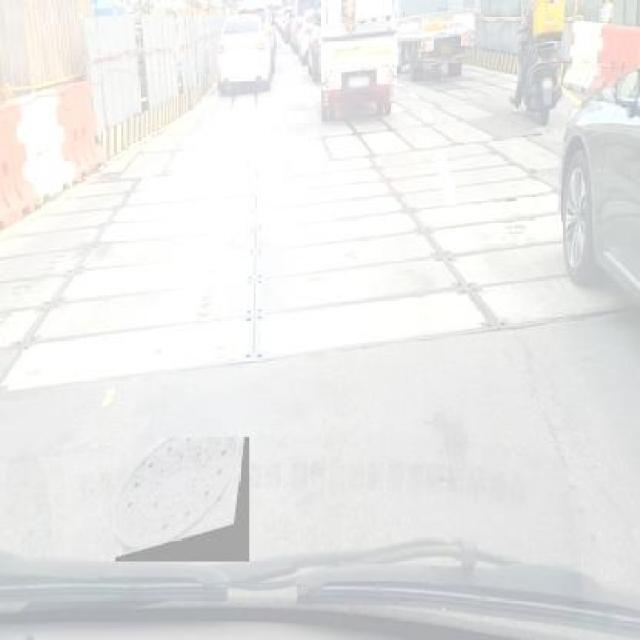Manhole: (116, 436, 250, 562)
